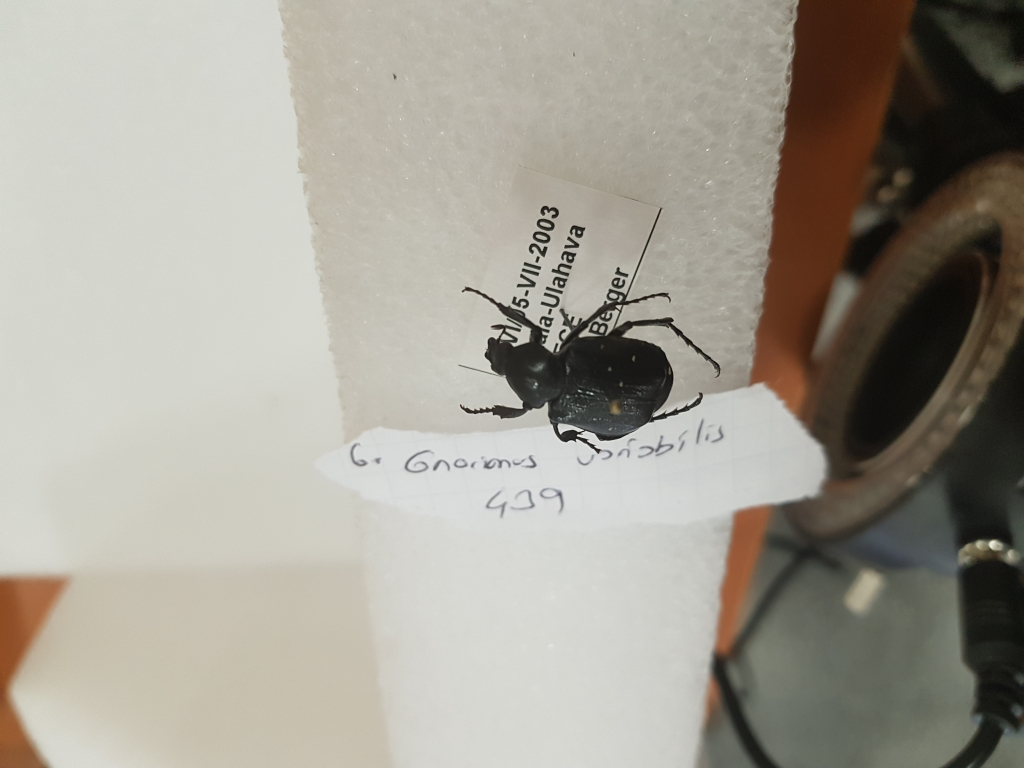Gnorimus_variabilis: (452, 279, 726, 450)
